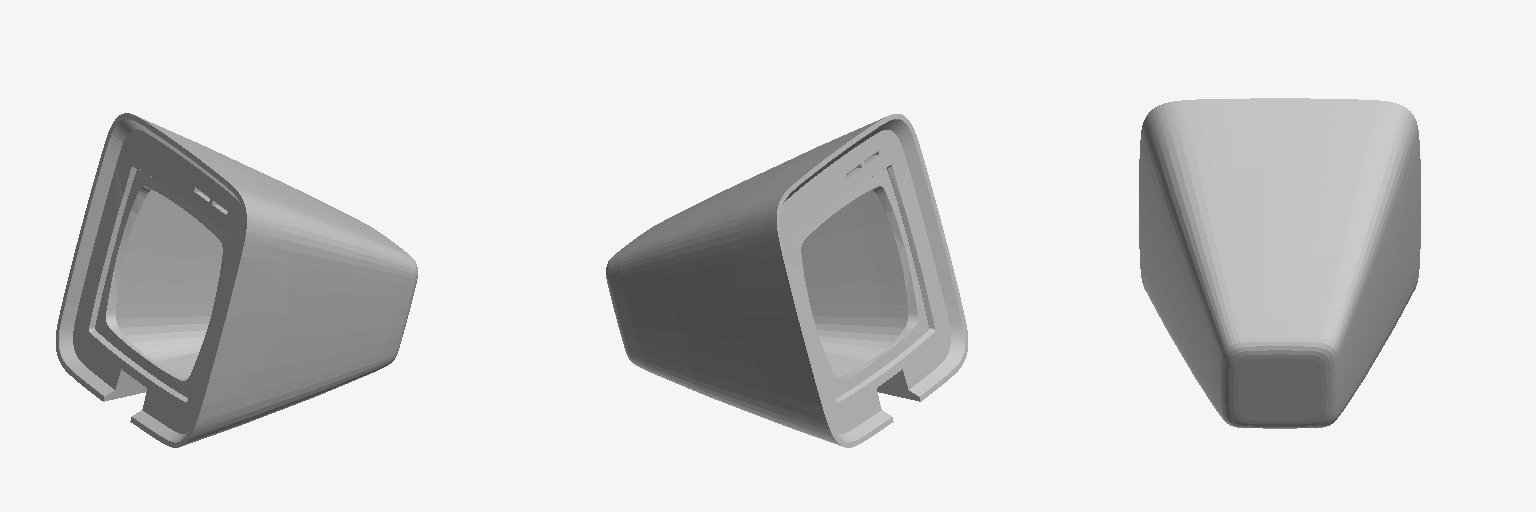
Rendered from top.obj.
3 renders of one model, left to right at view 1: azimuth 30°, elevation 25°; view 2: azimuth 150°, elevation 25°; view 3: azimuth 270°, elevation 25°, orthographic.
Parts seen in each view (by area): view 1: BodyTop_low; view 2: BodyTop_low; view 3: BodyTop_low.
Part boxes in pixels (x1,y1,x2,y2): BodyTop_low: (56,113,417,447); BodyTop_low: (606,114,967,447); BodyTop_low: (1139,98,1420,428).
Size of the model in its own units: 42.02 by 35.64 by 36.94.